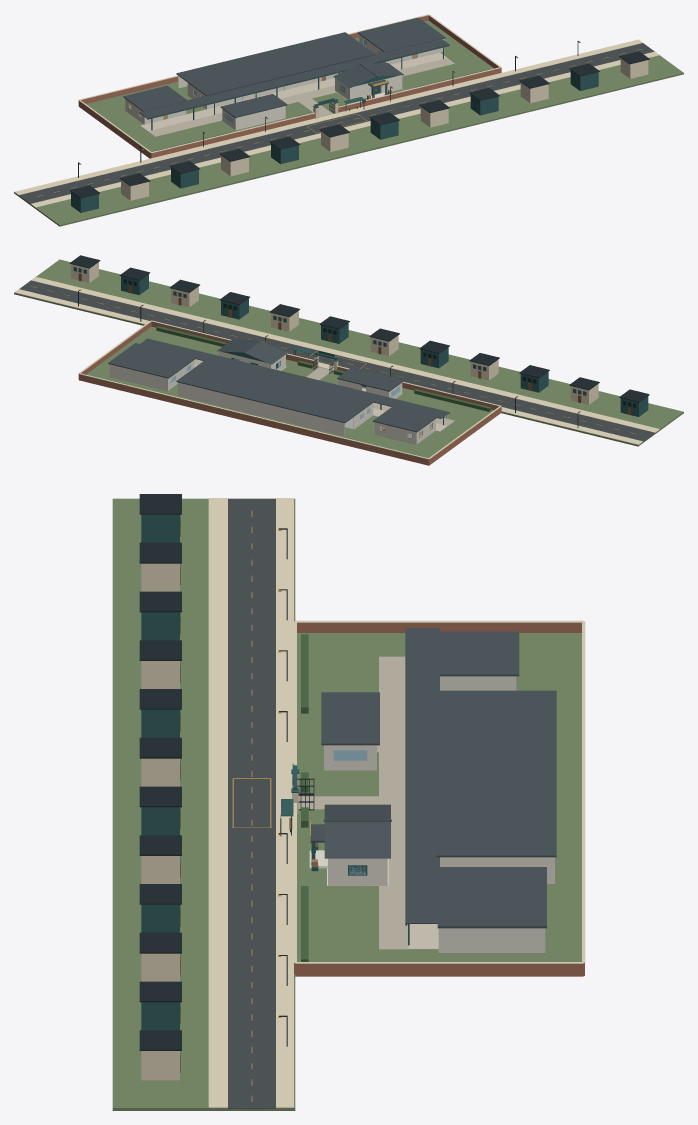
The model's file is School_Grounds.glb.
3 views of the same model, one above another, from view 1: azimuth 30°, elevation 25°; view 2: azimuth 150°, elevation 25°; view 3: azimuth 270°, elevation 25° (orthographic). The views are drawn at different scales.
Visible parts, largest first — view 1: Street | verge ground, Street | houses across the road, Street | road, Grounds | lawn, Classroom block | Roof, Street | sidewalks, Grounds | perimeter wall, Corridor | canopy roof, Cafeteria | Roof, Library | Shell, Grounds | paths, Corridor | floor (+3 smaller); view 2: Street | verge ground, Street | houses across the road, Street | road, Grounds | lawn, Classroom block | Roof, Street | sidewalks, Grounds | perimeter wall, Corridor | canopy roof, Cafeteria | Roof, Library | Shell, Reunion Hall | Roof, Grounds | hedges (+8 smaller); view 3: Street | verge ground, Grounds | lawn, Street | road, Street | houses across the road, Street | sidewalks, Classroom block | Roof, Grounds | perimeter wall, Corridor | canopy roof, Grounds | paths, Cafeteria | Roof, Library | Shell, Dormitory | Roof (+6 smaller).
Part boxes in pixels (left/top/right/bottom): Street | verge ground: left=14, top=55, right=683, bottom=226; Street | houses across the road: left=69, top=51, right=649, bottom=212; Street | road: left=19, top=43, right=654, bottom=203; Grounds | lawn: left=86, top=20, right=493, bottom=151; Classroom block | Roof: left=176, top=32, right=375, bottom=95; Street | sidewalks: left=14, top=39, right=659, bottom=207; Grounds | perimeter wall: left=78, top=14, right=501, bottom=158; Corridor | canopy roof: left=139, top=39, right=449, bottom=119; Cafeteria | Roof: left=357, top=17, right=445, bottom=52; Library | Shell: left=220, top=94, right=287, bottom=130; Grounds | paths: left=148, top=58, right=454, bottom=136; Corridor | floor: left=140, top=52, right=447, bottom=130; Street | verge ground: left=14, top=259, right=683, bottom=446; Street | houses across the road: left=69, top=255, right=649, bottom=416; Street | road: left=19, top=280, right=654, bottom=441; Grounds | lawn: left=86, top=326, right=493, bottom=458; Classroom block | Roof: left=176, top=359, right=375, bottom=422; Street | sidewalks: left=14, top=276, right=659, bottom=444; Grounds | perimeter wall: left=78, top=320, right=501, bottom=465; Corridor | canopy roof: left=140, top=338, right=449, bottom=418; Cafeteria | Roof: left=108, top=343, right=195, bottom=378; Library | Shell: left=337, top=367, right=404, bottom=398; Reunion Hall | Roof: left=217, top=339, right=287, bottom=364; Grounds | hedges: left=156, top=326, right=491, bottom=411; Street | verge ground: left=112, top=498, right=295, bottom=1110; Grounds | lawn: left=297, top=633, right=581, bottom=961; Street | road: left=228, top=498, right=275, bottom=1108; Street | houses across the road: left=139, top=494, right=181, bottom=1080; Street | sidewalks: left=208, top=498, right=293, bottom=1108; Classroom block | Roof: left=436, top=690, right=556, bottom=857; Grounds | perimeter wall: left=293, top=620, right=585, bottom=976; Corridor | canopy roof: left=405, top=628, right=439, bottom=925; Grounds | paths: left=298, top=656, right=408, bottom=949; Cafeteria | Roof: left=437, top=867, right=546, bottom=928; Library | Shell: left=321, top=692, right=379, bottom=770; Dormitory | Roof: left=437, top=631, right=519, bottom=676.
Size of the model in its own units: 150 by 4.93 by 49.18.
